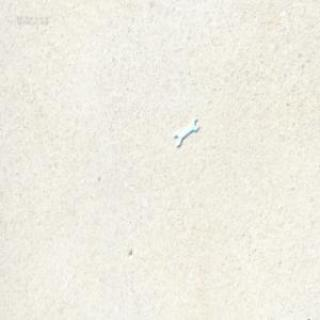Wrenchtrack_idkeyframe: (173, 116, 197, 146)
